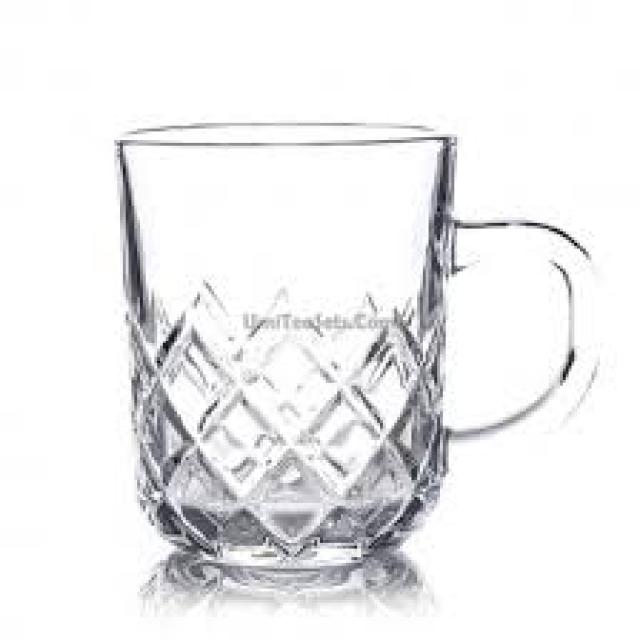glass: (111, 123, 600, 568)
